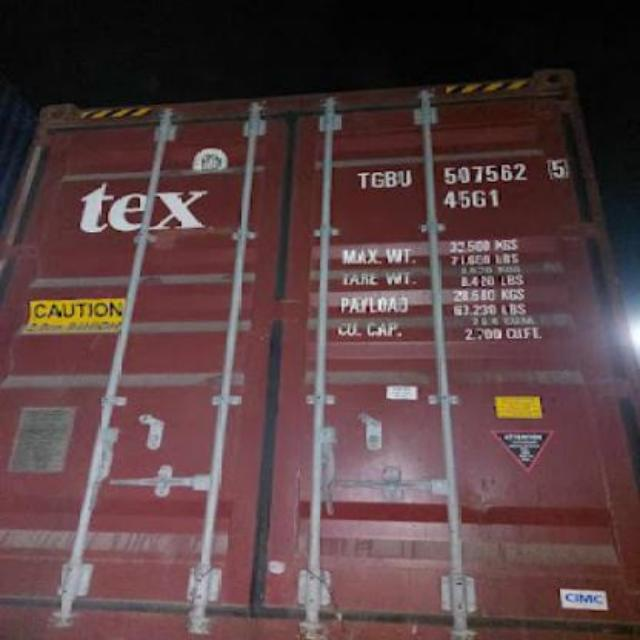0: (458, 162, 470, 186)
2: (512, 158, 530, 186)
5: (548, 155, 568, 181), (440, 162, 458, 186), (486, 156, 498, 186)
6: (498, 159, 512, 183)
7: (470, 157, 486, 187)
B: (384, 165, 398, 195)
G: (371, 165, 384, 197)
T: (358, 167, 370, 196)
U: (398, 162, 412, 190)
